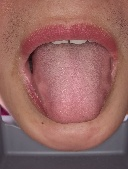tongue: (32, 46, 113, 126)
